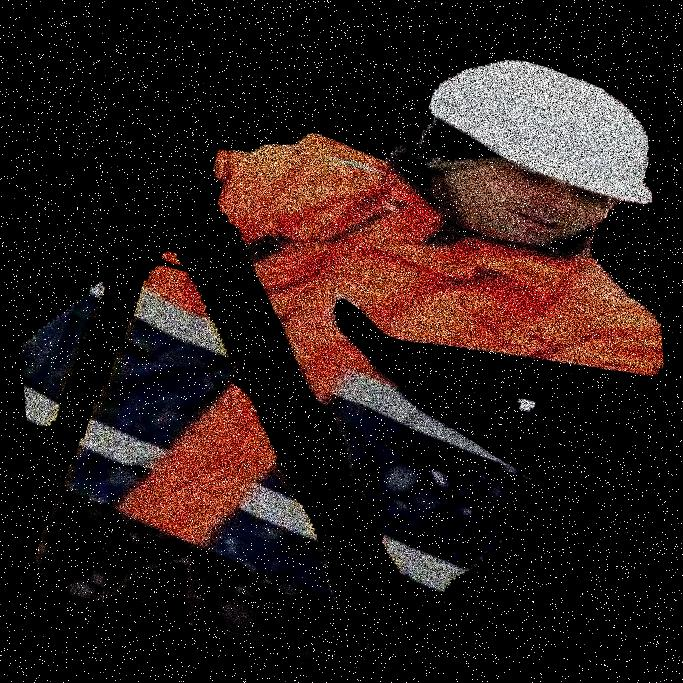Pessoa: (281, 0, 543, 682)
